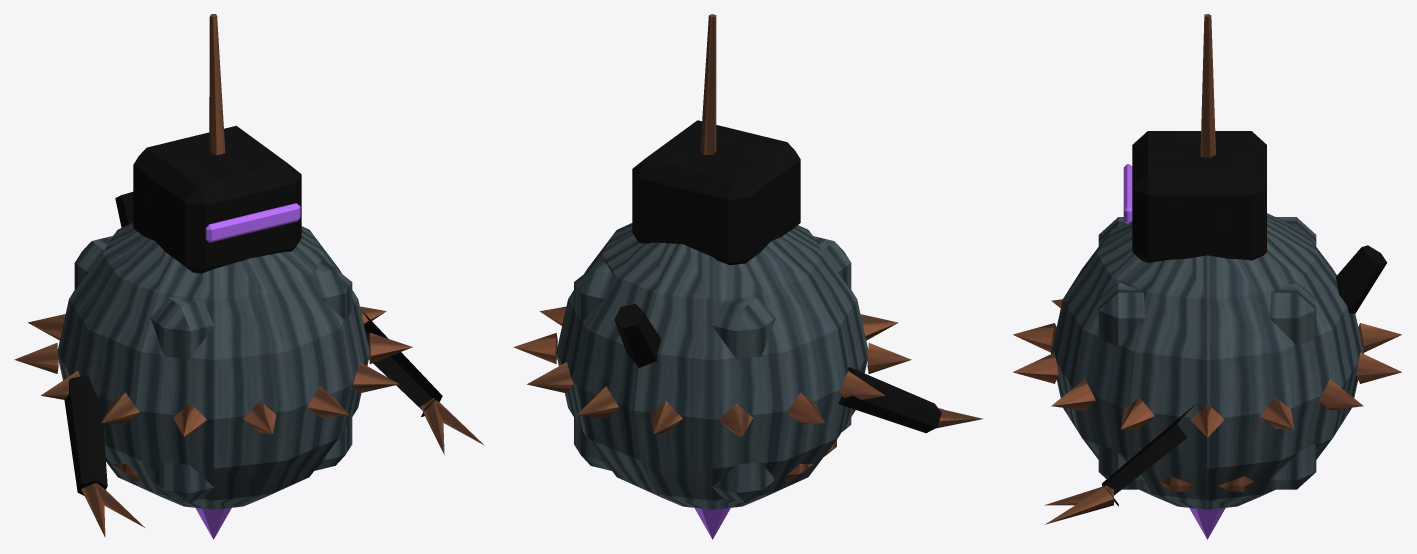
File: mon_cons_04.glb
The picture shows the model from 3 angles, left to right: view 1: azimuth 30°, elevation 25°; view 2: azimuth 150°, elevation 25°; view 3: azimuth 270°, elevation 25°; orthographic projection.
Visible parts, largest first — view 1: mon_cons_04; view 2: mon_cons_04; view 3: mon_cons_04.
Boxes of the visible parts, box(x1,y1,x2,y2) form: mon_cons_04: box(14, 14, 483, 539); mon_cons_04: box(513, 14, 982, 539); mon_cons_04: box(1013, 14, 1401, 539).
Bounding box in the file's own units: 0.6769 × 0.8944 × 0.6027.
4 materials, 3 textured.
